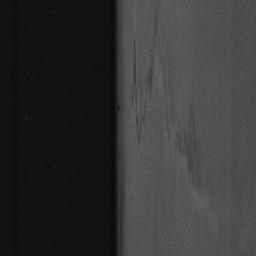Silk spot: (132, 0, 178, 149), (175, 101, 214, 205), (140, 156, 165, 170), (152, 231, 160, 255)
